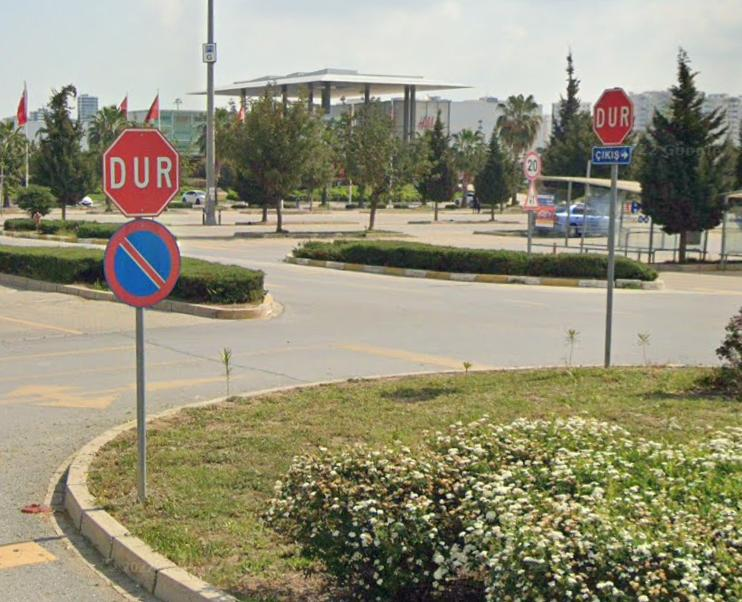nopark: (108, 224, 177, 303)
stop: (105, 130, 179, 214), (594, 86, 633, 143)
